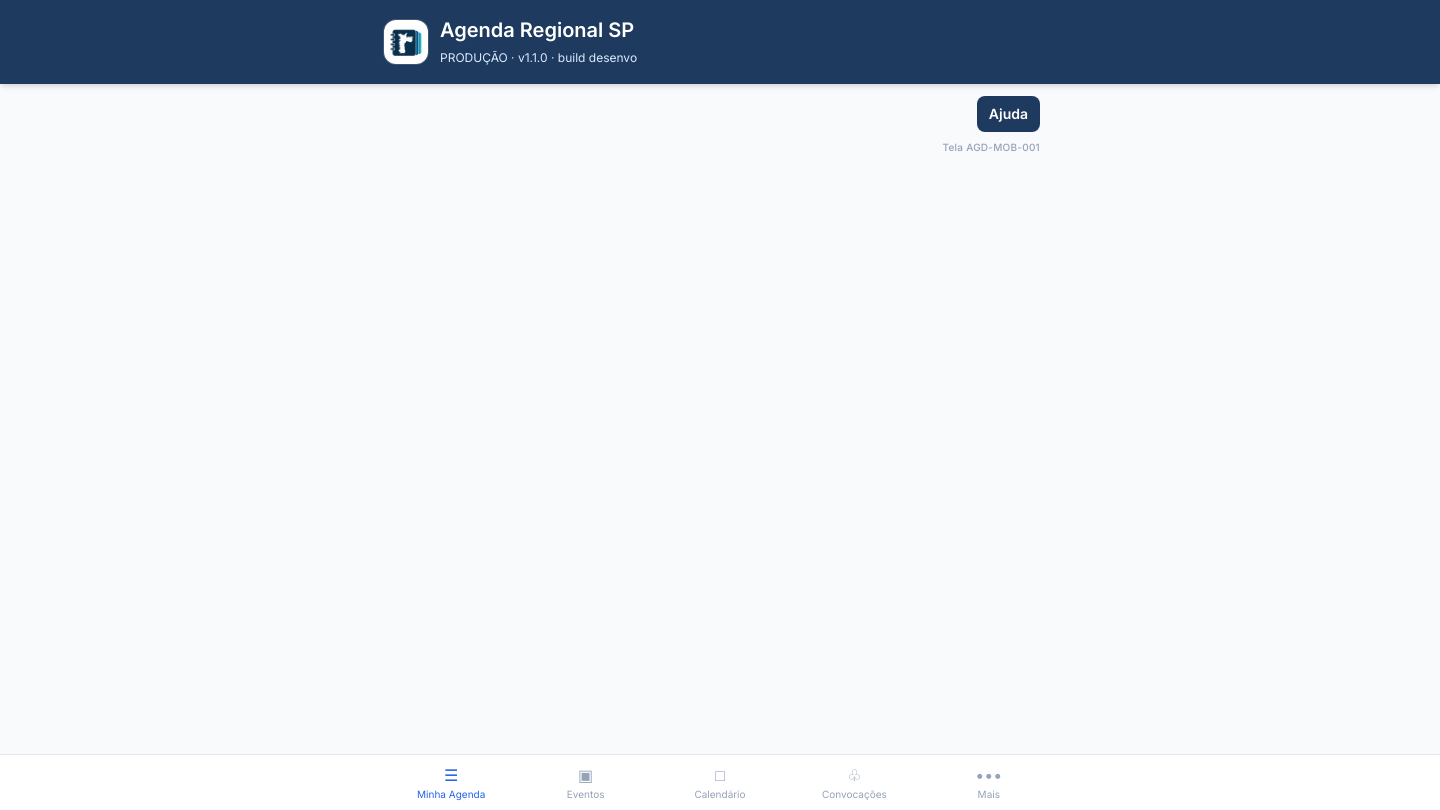
it: Central de Ajuda › toda aba agenda tem artigo, código oficial e botão de ajuda
Click the button "Ajuda": (1008, 114) [977,96,1040,132]
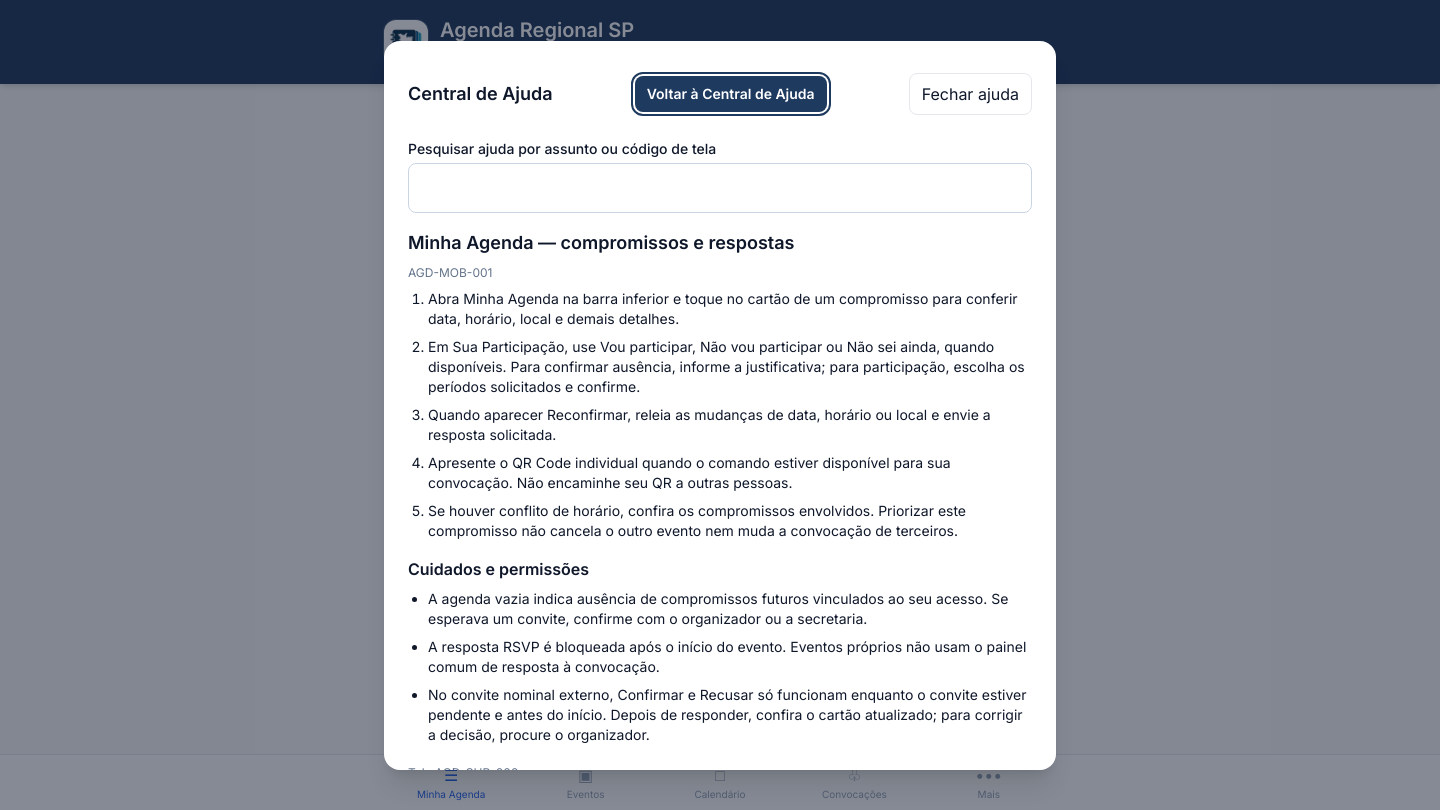
Expected: the heading "Minha Agenda — compromissos e respostas" is shown, [408,232,794,252]
